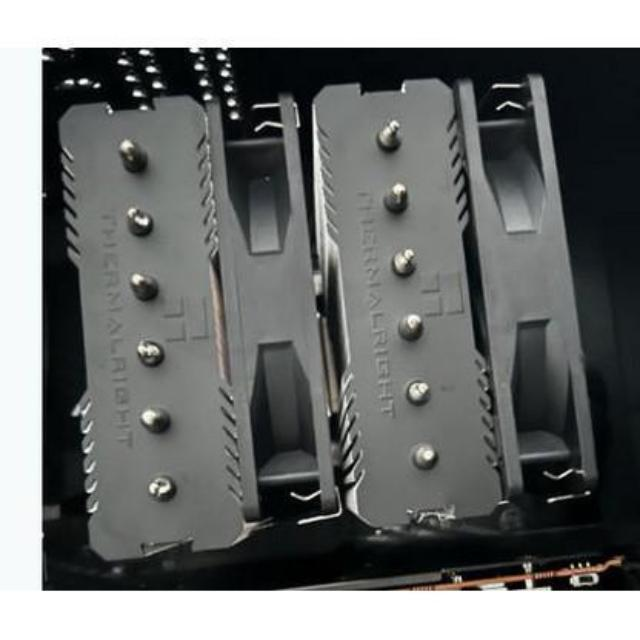CPU_Fan: (51, 90, 600, 550)
